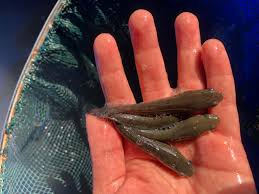fish: (141, 87, 224, 114), (143, 139, 193, 180), (157, 110, 223, 138), (105, 113, 181, 128)
